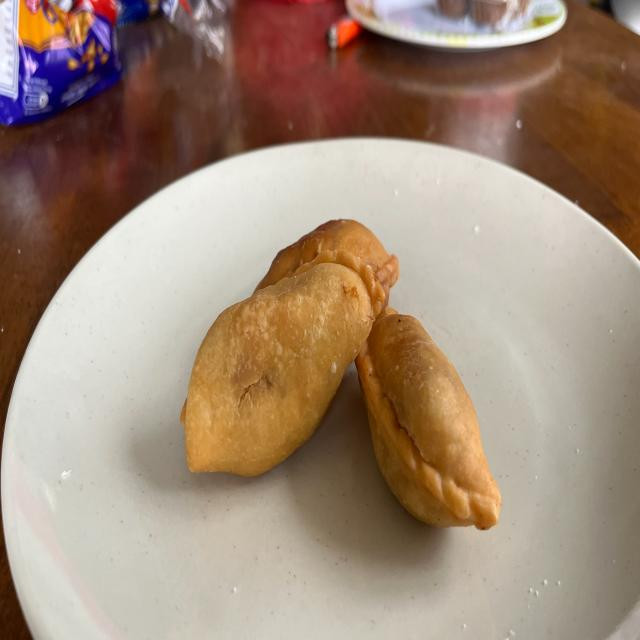karipap: (181, 251, 385, 476), (355, 307, 501, 529), (260, 220, 399, 302)
